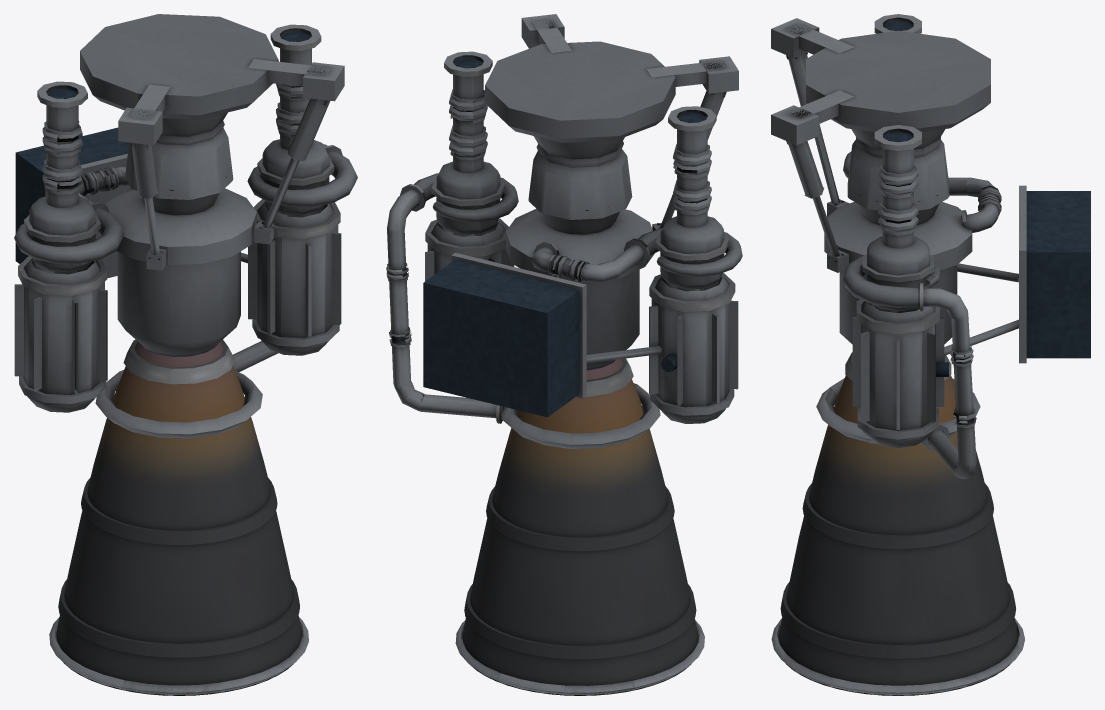
File: eng_electric_pump_mini.glb
3 views of the same model, side by side, from view 1: azimuth 30°, elevation 25°; view 2: azimuth 150°, elevation 25°; view 3: azimuth 270°, elevation 25° (orthographic). The views are drawn at different scales.
Visible parts, largest first — view 1: eng_electric_pump_mini_mesh; view 2: eng_electric_pump_mini_mesh; view 3: eng_electric_pump_mini_mesh.
Part boxes in pixels (box(x1,y1,x2,y2)): eng_electric_pump_mini_mesh: box(14, 14, 357, 695); eng_electric_pump_mini_mesh: box(386, 14, 742, 695); eng_electric_pump_mini_mesh: box(771, 14, 1090, 695).
Size of the model in its own units: 0.3884 by 0.65 by 0.329.
1 material, 1 textured.
